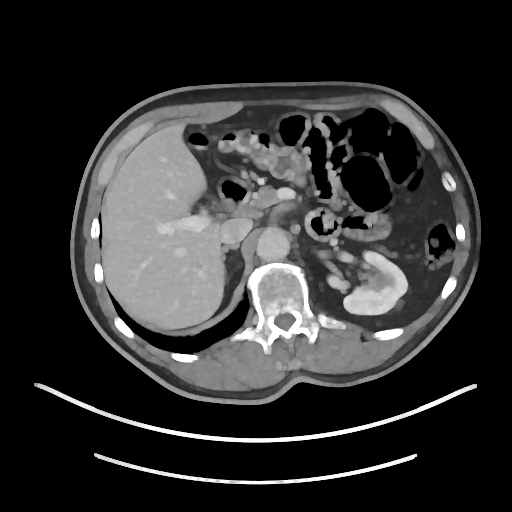Lesion: (363, 268, 387, 297)
